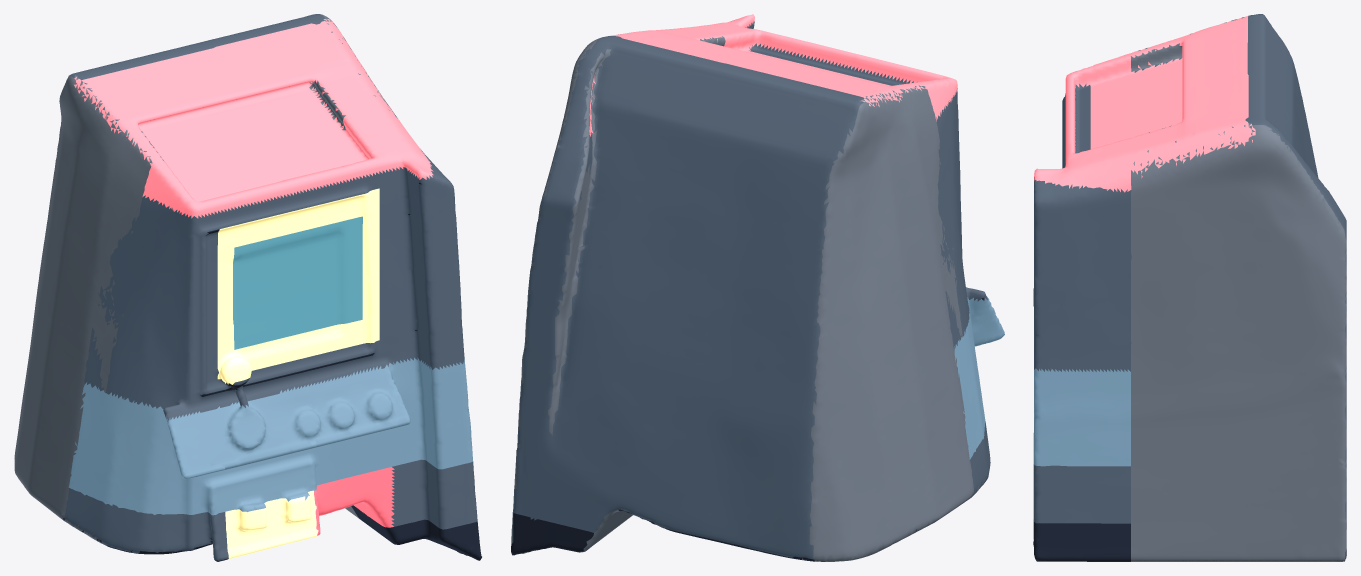
File: classic-cabinet-depth-prototype.glb
3 renders of one model, left to right at view 1: azimuth 30°, elevation 25°; view 2: azimuth 150°, elevation 25°; view 3: azimuth 270°, elevation 25°, orthographic. The views are drawn at different scales.
Visible parts, largest first — view 1: classic_cabinet_depth_prototype; view 2: classic_cabinet_depth_prototype; view 3: classic_cabinet_depth_prototype.
Boxes of the visible parts, x1=… form: classic_cabinet_depth_prototype: x1=14, y1=14, x2=481, y2=561; classic_cabinet_depth_prototype: x1=511, y1=14, x2=1004, y2=561; classic_cabinet_depth_prototype: x1=1033, y1=14, x2=1346, y2=561.
Size of the model in its own units: 2.95 by 3.79 by 2.55.
